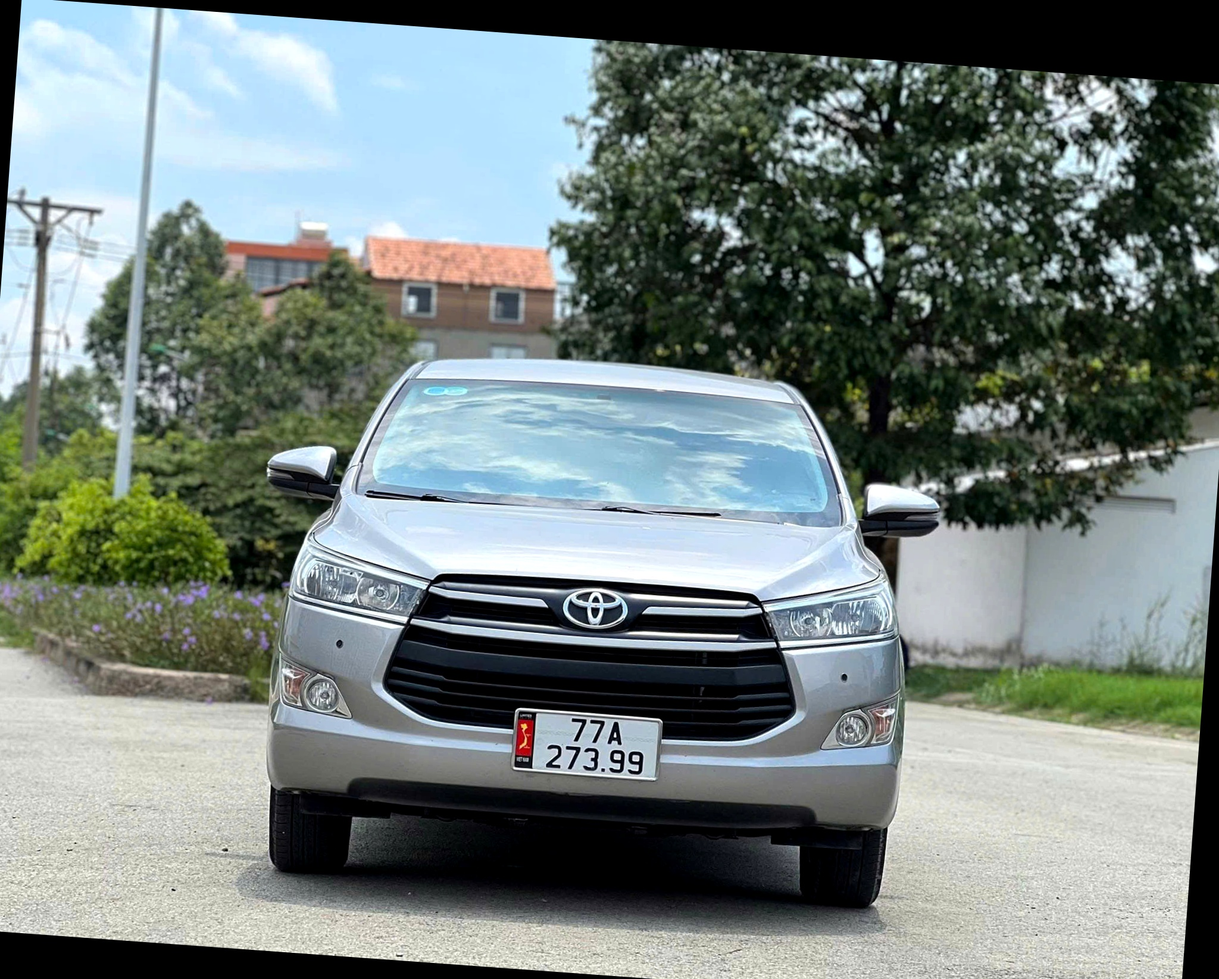Bien-so: (534, 713, 665, 790)
